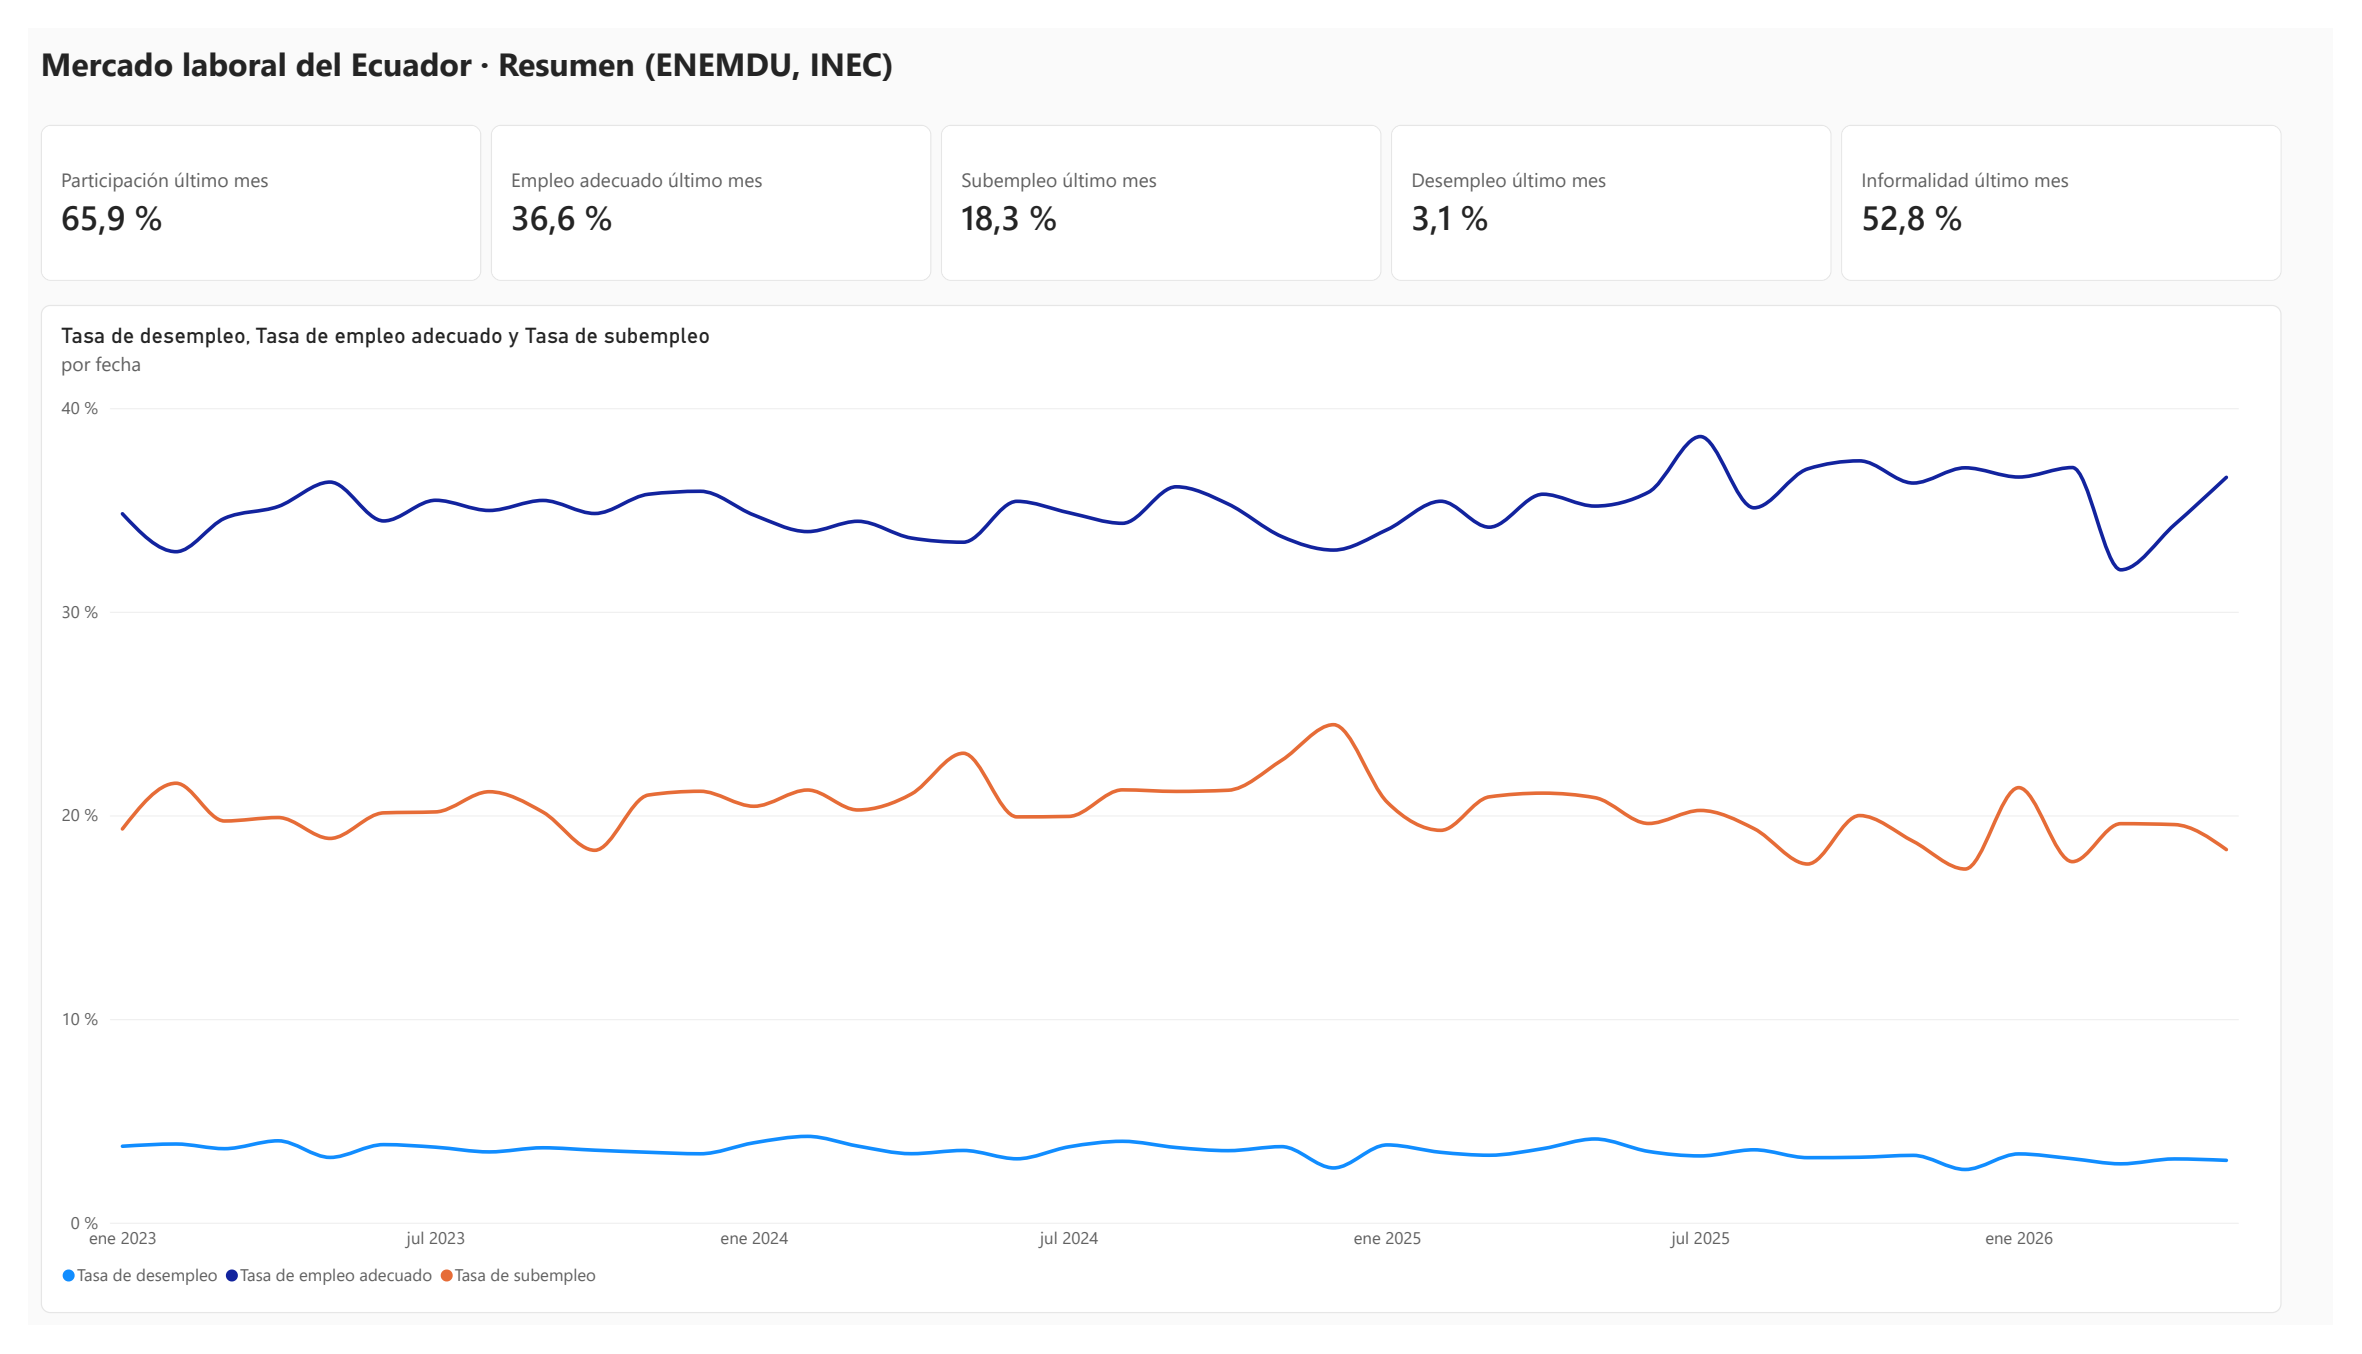

The page's visual inventory and layout, read from the dashboard file:
{"tool":"powerbi","page":{"name":"Resumen","canvas":[1920,1080],"ordinal":0},"visuals":[{"type":"lineChart","fields":{"Category":["bi_mercado_laboral.fecha"],"Y":["bi_mercado_laboral.Tasa de desempleo","bi_mercado_laboral.Tasa de empleo adecuado","bi_mercado_laboral.Tasa de subempleo"]},"box":[10.3,230,1866.9,840],"z":0},{"type":"cardVisual","fields":{"Data":["bi_mercado_laboral.Participación último mes","bi_mercado_laboral.Empleo adecuado último mes","bi_mercado_laboral.Subempleo último mes","bi_mercado_laboral.Desempleo último mes","bi_mercado_laboral.Informalidad último mes"]},"box":[10.3,80,1866.9,129.7],"z":1000},{"type":"textbox","box":[10,10,1867,60],"z":2000}]}

Visuals, with their boxes in screenshot pixels (x1, y1, x2, y2), scaled from the page's 1920x1080 canvas onto the 2362x1354 screenshot:
lineChart - bi_mercado_laboral.fecha x bi_mercado_laboral.Tasa de desempleo: 13 288 2309 1341
cardVisual - bi_mercado_laboral.Participación último mes x bi_mercado_laboral.Empleo adecuado último mes: 13 100 2309 263
textbox: 12 13 2309 88
